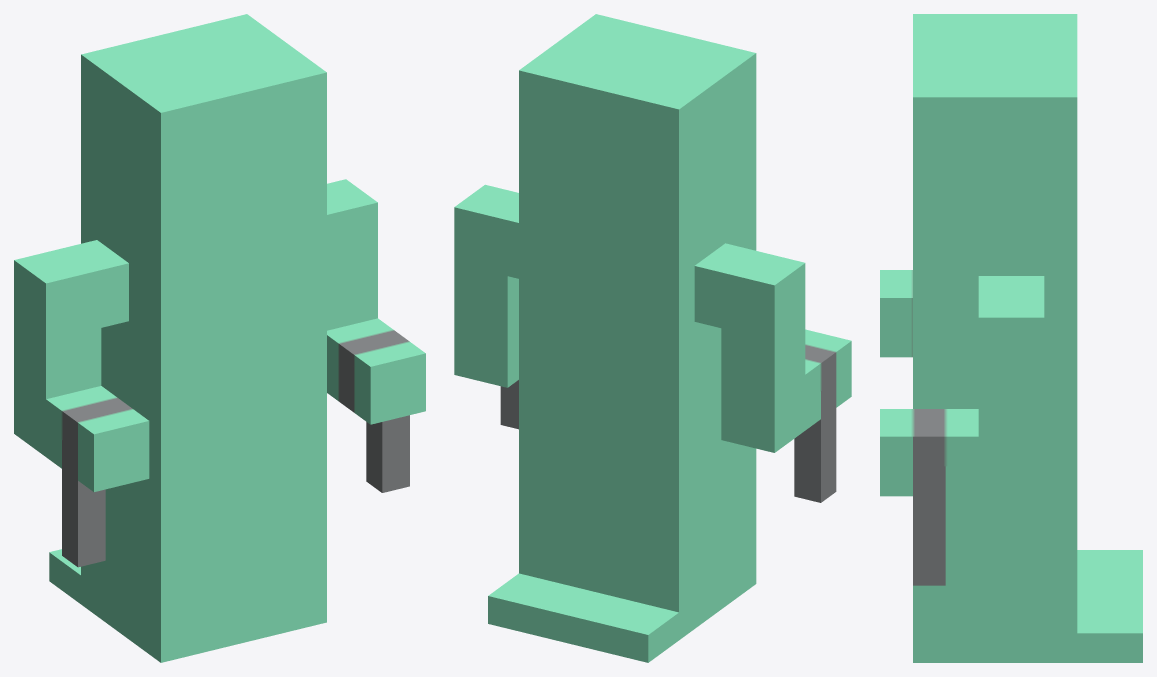
3 views of the same model, side by side, from view 1: azimuth 30°, elevation 25°; view 2: azimuth 150°, elevation 25°; view 3: azimuth 270°, elevation 25° (orthographic). The views are drawn at different scales.
Visible parts, largest first — view 1: Ghost_With_Chains; view 2: Ghost_With_Chains; view 3: Ghost_With_Chains.
Part boxes in pixels (x1=…): Ghost_With_Chains: x1=14, y1=14, x2=425, y2=662; Ghost_With_Chains: x1=454, y1=14, x2=851, y2=662; Ghost_With_Chains: x1=880, y1=14, x2=1142, y2=662.
Size of the model in its own units: 0.66 by 1.04 by 0.44.
